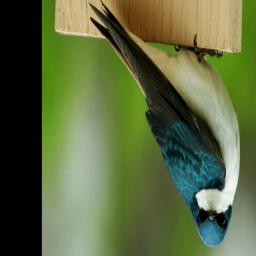Swallow: (86, 0, 242, 249)
